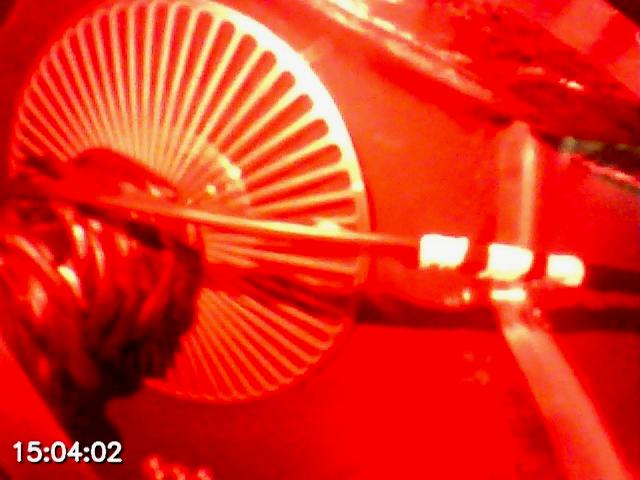white-dots: (419, 234, 584, 287)
